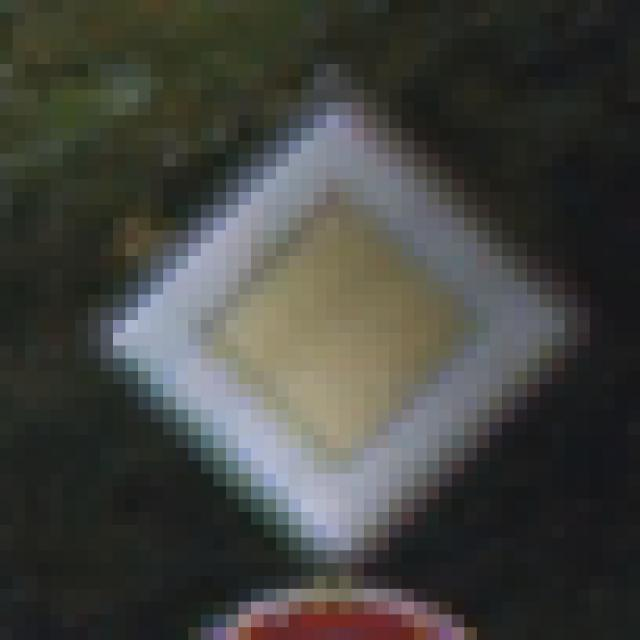Main Road: (77, 65, 579, 577)
